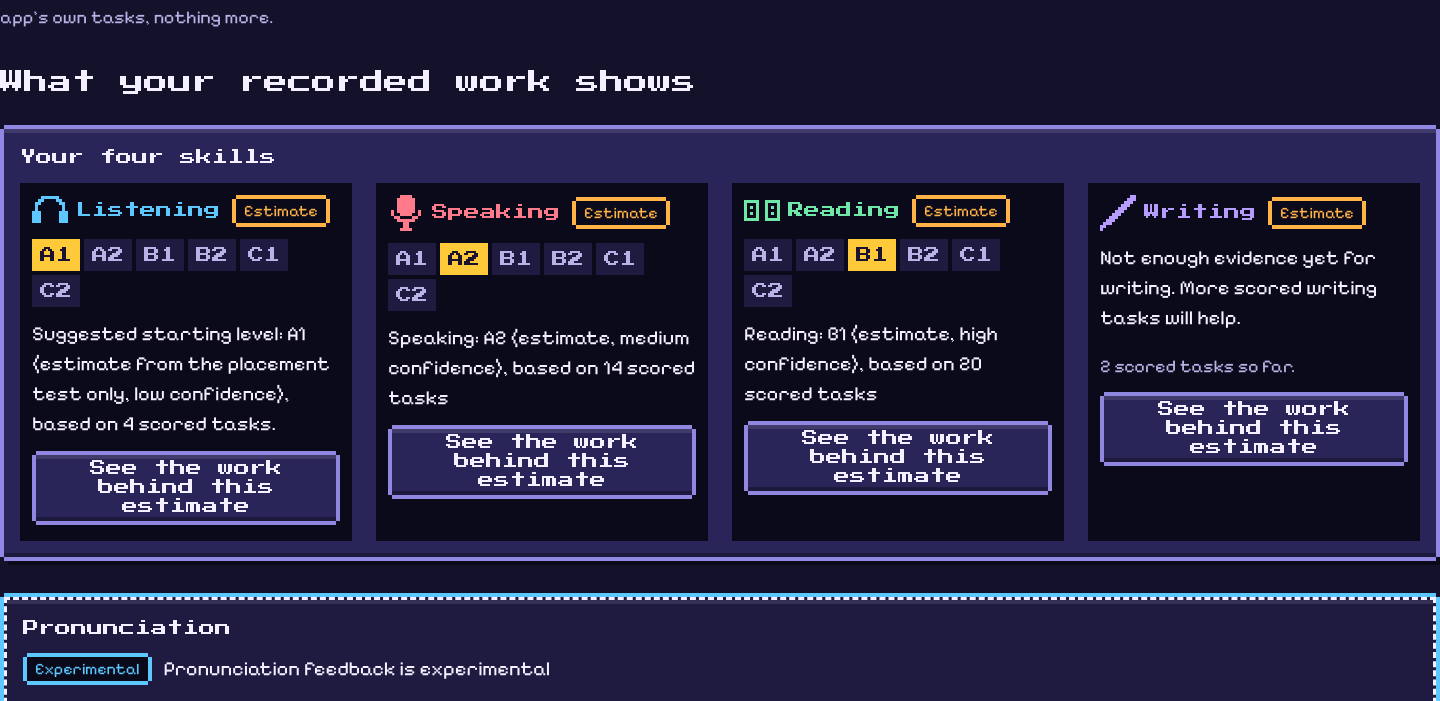
drill-down from a skill to its evidence › describes a skill without a level as not enough evidence and shows no confidence
Click the button named "See the work behind this estimate (Writing)".
click(1254, 429)  # box [1104,396,1404,462]
(page scrolled)
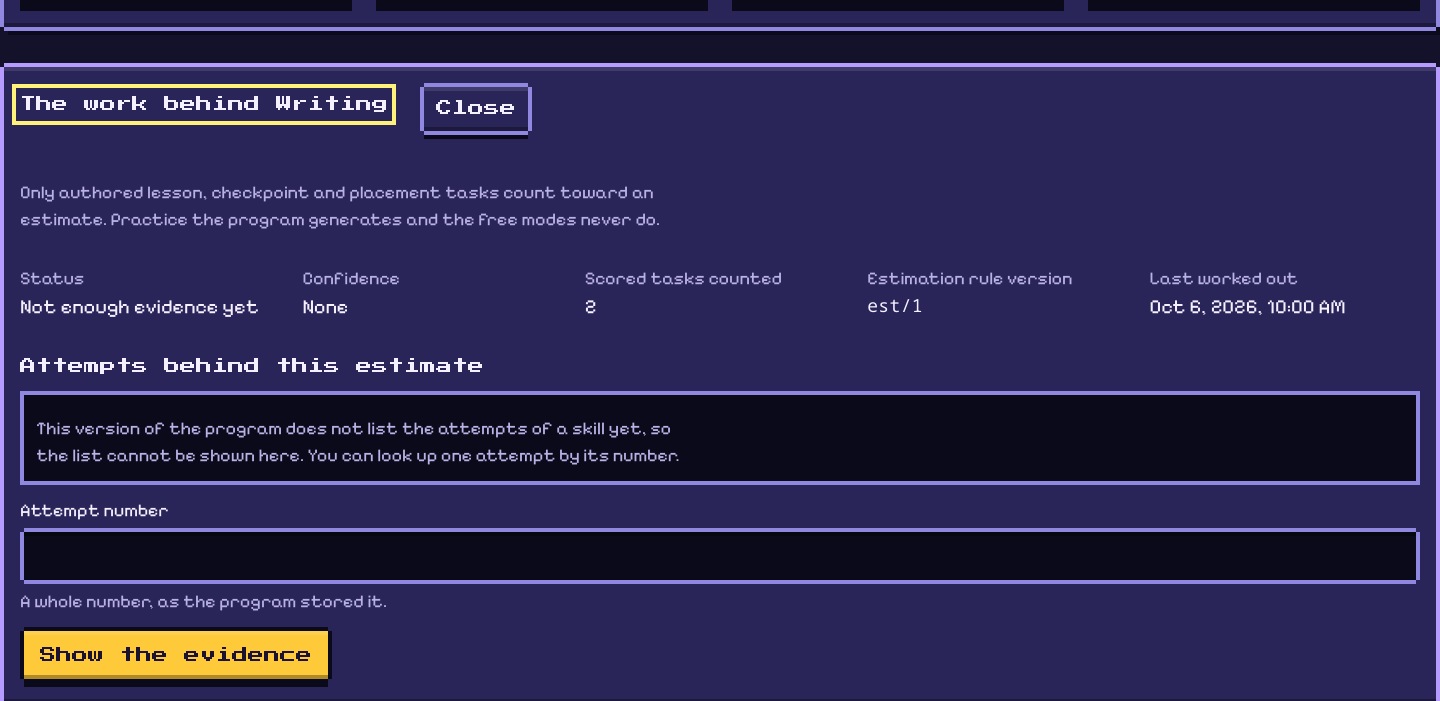
Now the text "Not enough evidence yet" is shown, box [20,292,290,322]
Now the text "None" is shown, box [302,294,348,318]
